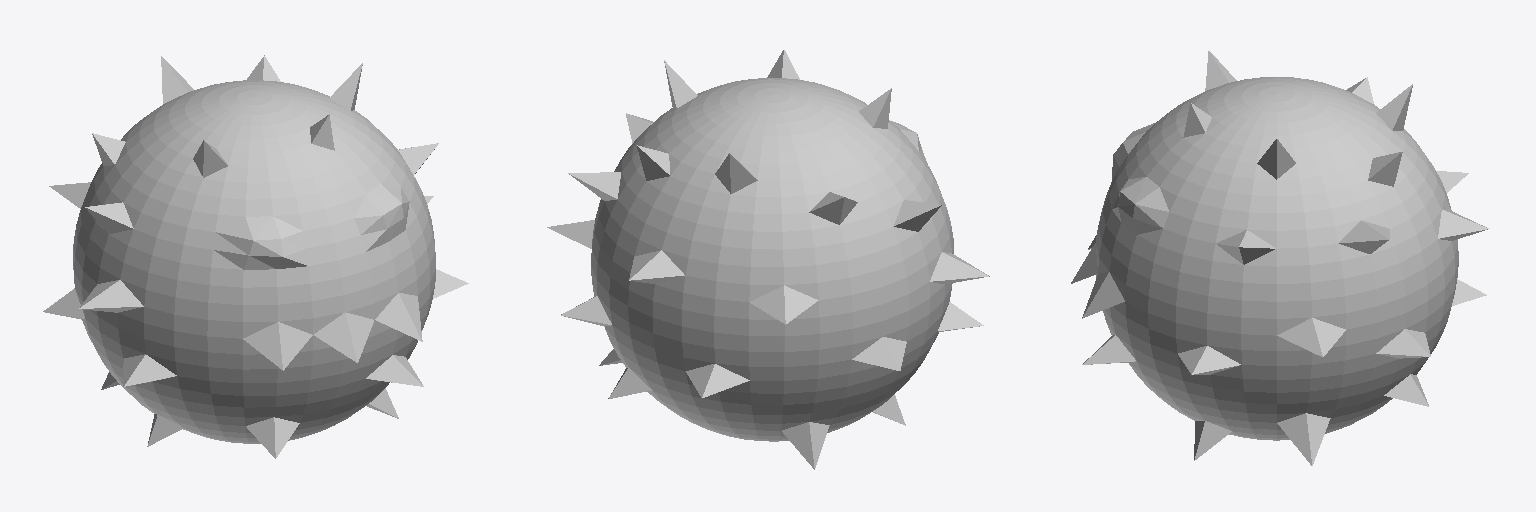
File: Normal Enemy.obj
3 renders of one model, left to right at view 1: azimuth 30°, elevation 25°; view 2: azimuth 150°, elevation 25°; view 3: azimuth 270°, elevation 25°, orthographic.
Parts seen in each view (by area): view 1: Sphere; view 2: Sphere; view 3: Sphere.
Boxes of the visible parts, x1,y1,x2,y2 form: Sphere: [43, 55, 468, 458]; Sphere: [547, 50, 989, 469]; Sphere: [1071, 51, 1488, 465].
Bounding box in the file's own units: 2.54 × 2.05 × 2.3.